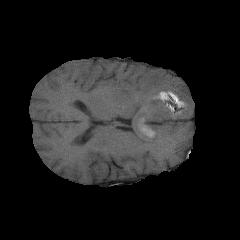glioma: (111, 68, 189, 143)
